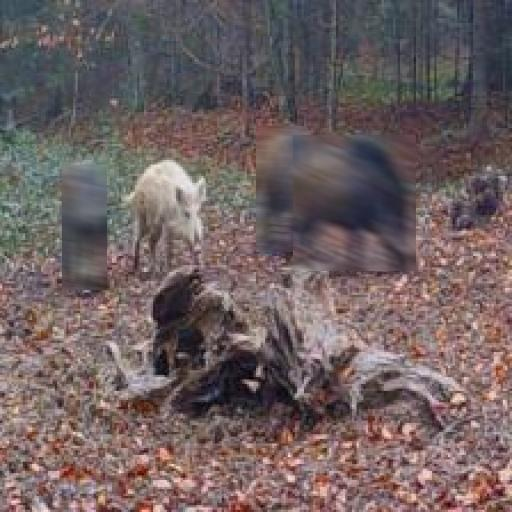Pig: (293, 135, 416, 271), (128, 160, 208, 274), (256, 126, 307, 252), (62, 165, 107, 290)
